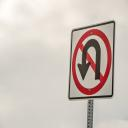NoVirarU: (72, 29, 113, 97)
